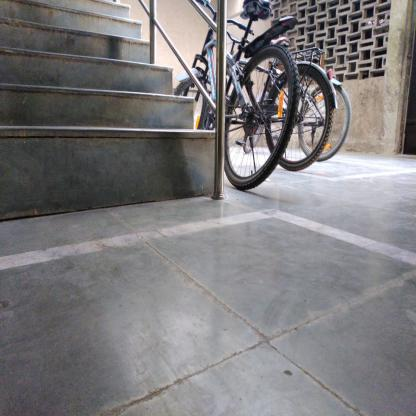stairs: (1, 19, 140, 233)
